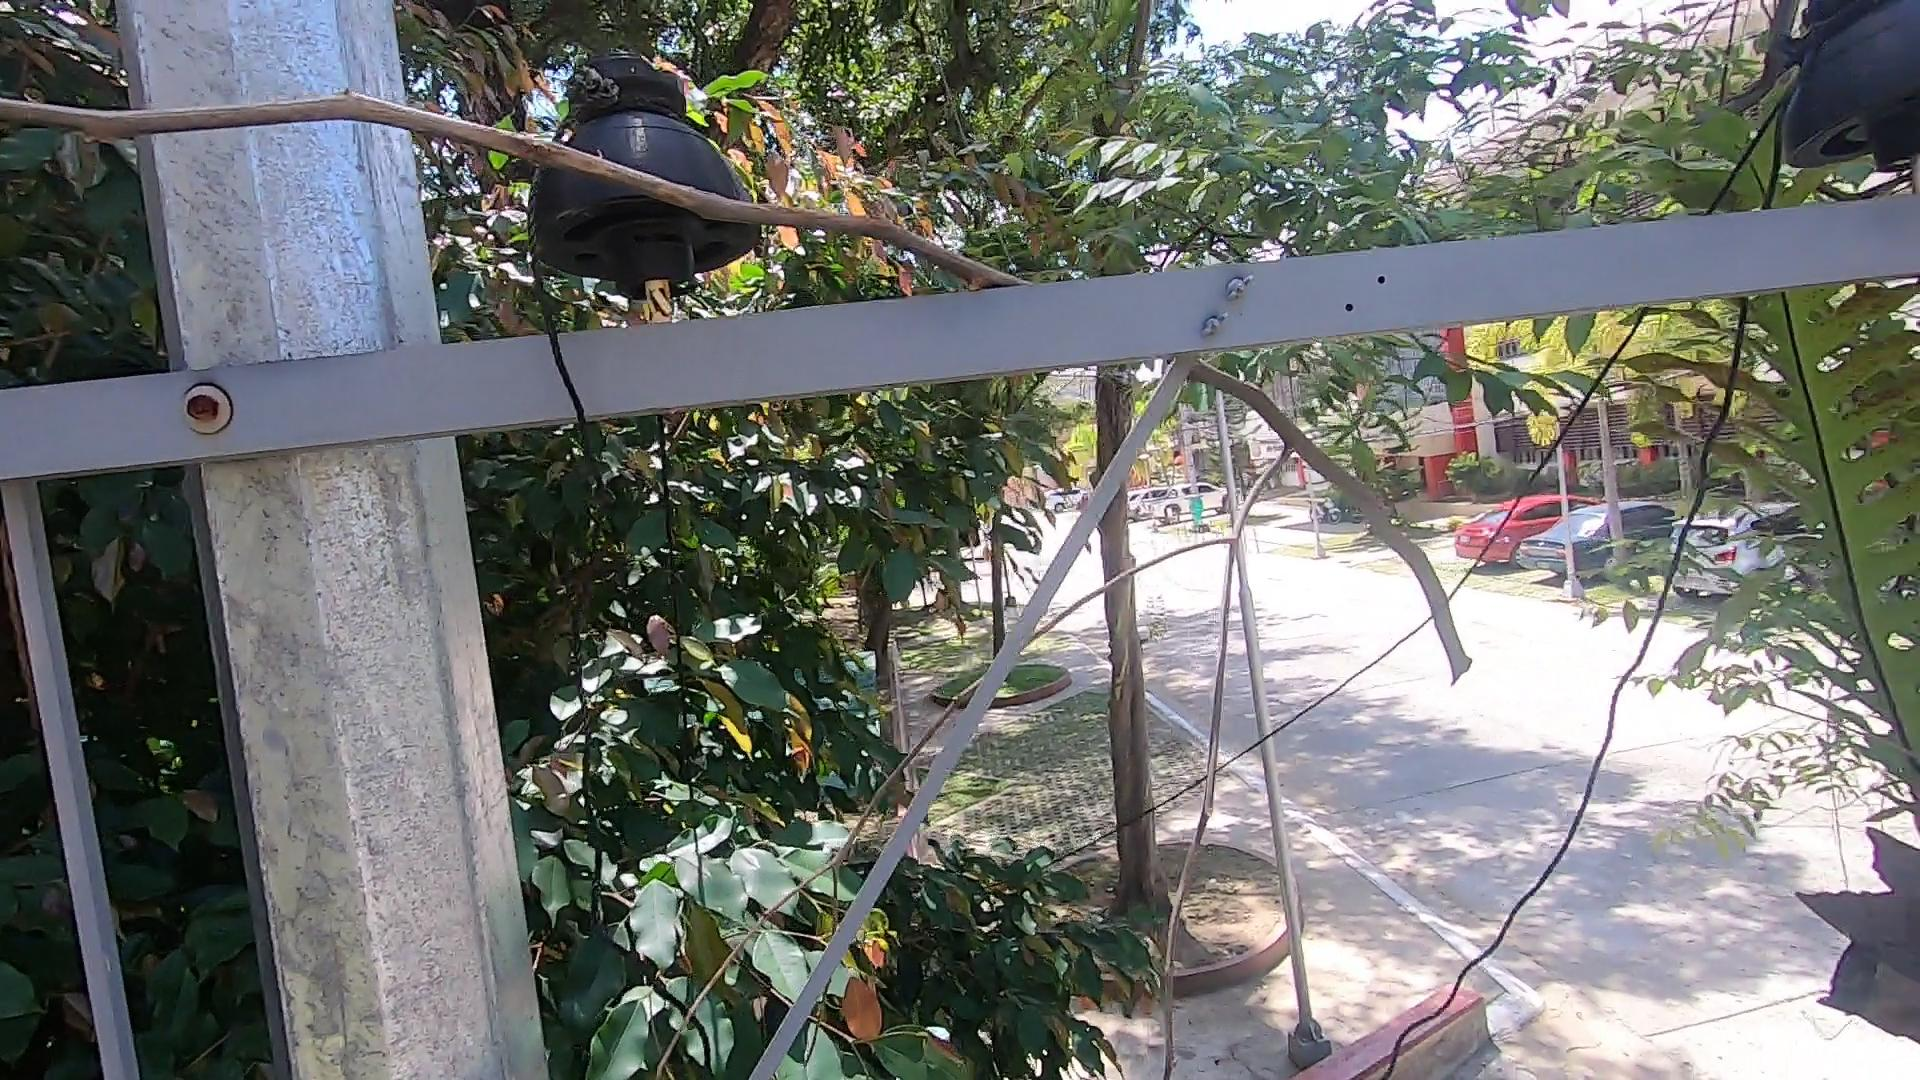tree branch: (642, 338, 1548, 1073), (1, 90, 1039, 311)
